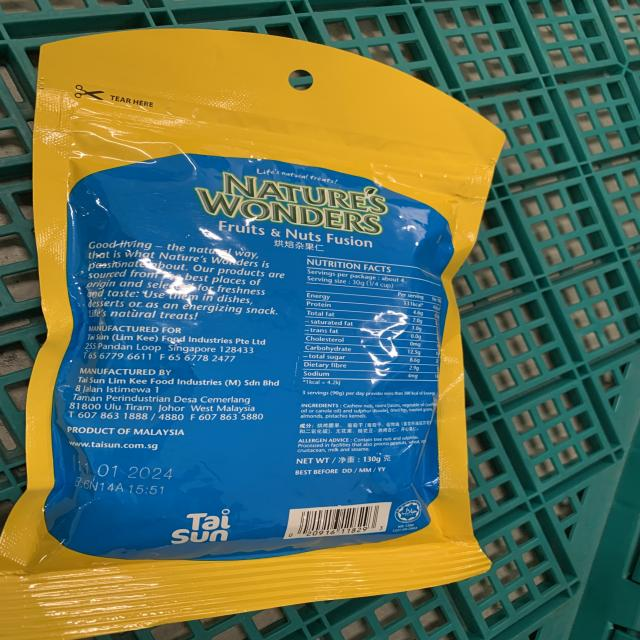object_name: (42, 46, 478, 599)
